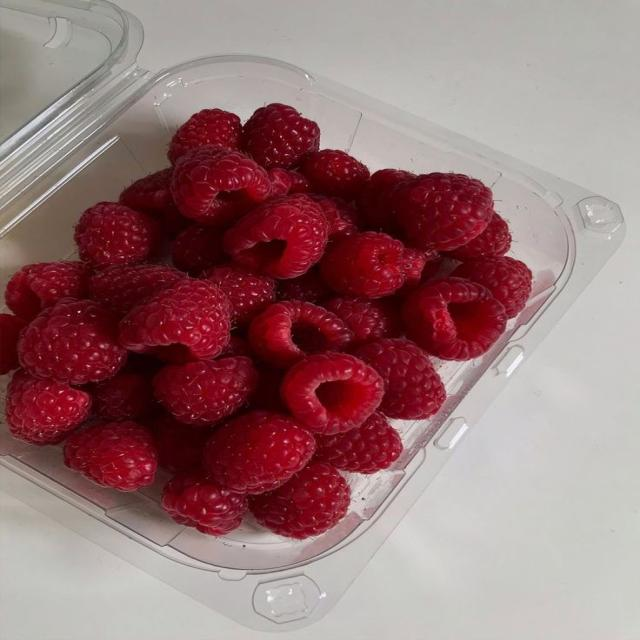raspberry: (120, 278, 231, 361), (18, 299, 126, 384), (204, 412, 315, 493), (224, 195, 328, 278), (403, 278, 506, 360), (281, 353, 384, 434), (172, 146, 271, 226), (392, 173, 493, 251), (250, 462, 350, 539), (354, 339, 446, 419), (154, 357, 258, 426), (249, 302, 353, 368), (64, 421, 157, 491), (7, 371, 91, 444), (161, 470, 247, 535), (320, 232, 404, 298), (74, 202, 159, 267), (314, 413, 402, 473), (242, 104, 319, 168), (88, 265, 184, 316), (6, 261, 88, 320), (453, 257, 532, 317), (120, 168, 189, 235), (201, 264, 275, 323), (168, 109, 241, 163), (357, 169, 415, 236), (324, 297, 403, 345), (151, 414, 212, 472), (301, 150, 369, 198), (91, 371, 157, 420), (447, 213, 511, 261), (172, 225, 228, 275), (308, 194, 360, 239), (277, 268, 333, 303), (249, 363, 286, 412), (400, 248, 439, 293), (0, 314, 27, 375), (122, 353, 164, 377), (220, 333, 253, 358), (267, 168, 291, 197), (288, 171, 311, 193)
